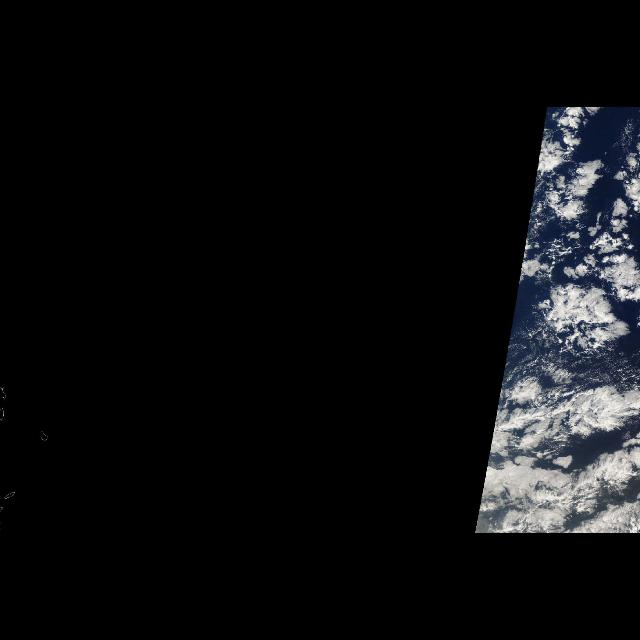Fish: (478, 356, 632, 526)
